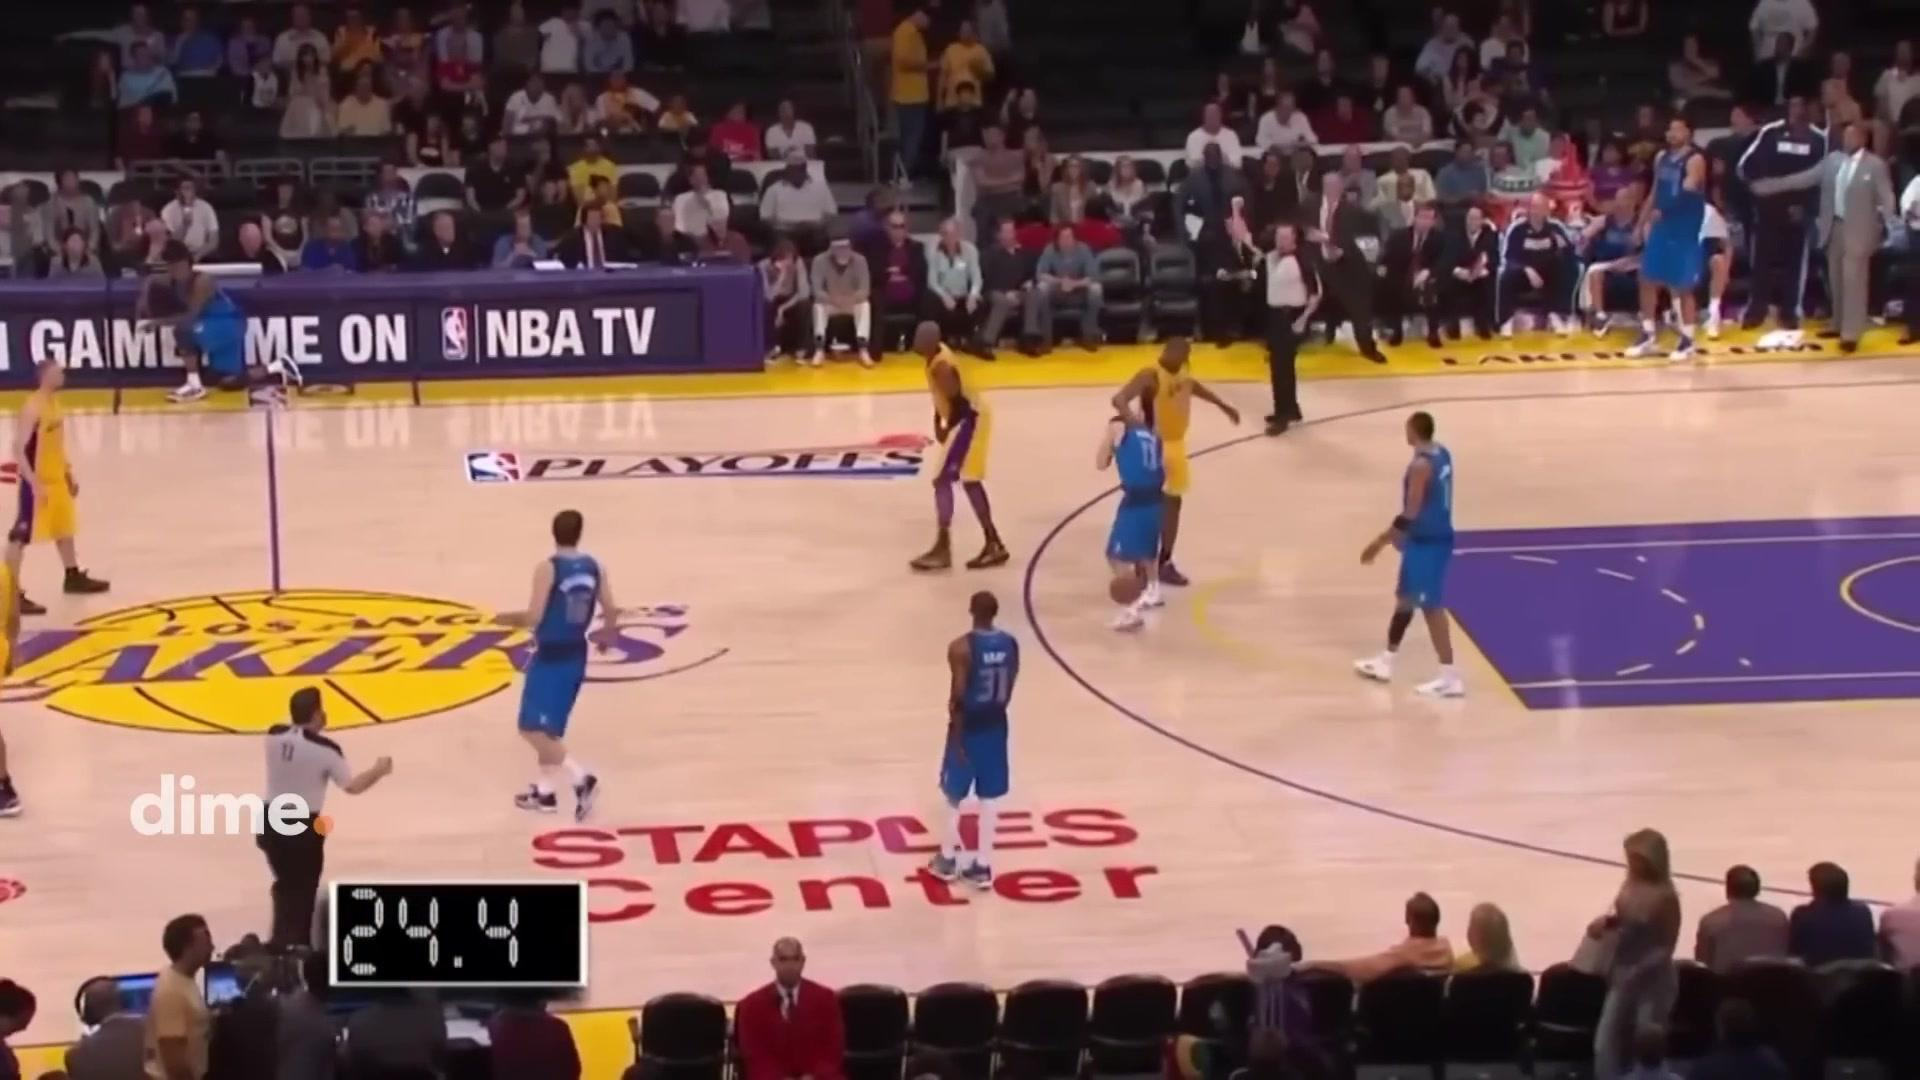foul: (1072, 324, 1208, 622)
